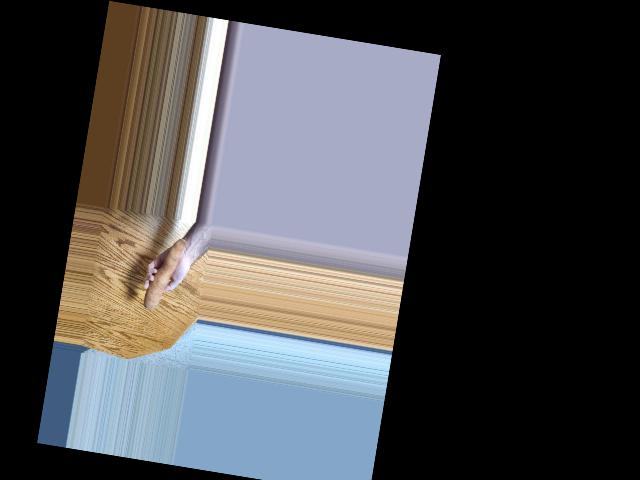sweet_potato: (136, 242, 180, 324)
